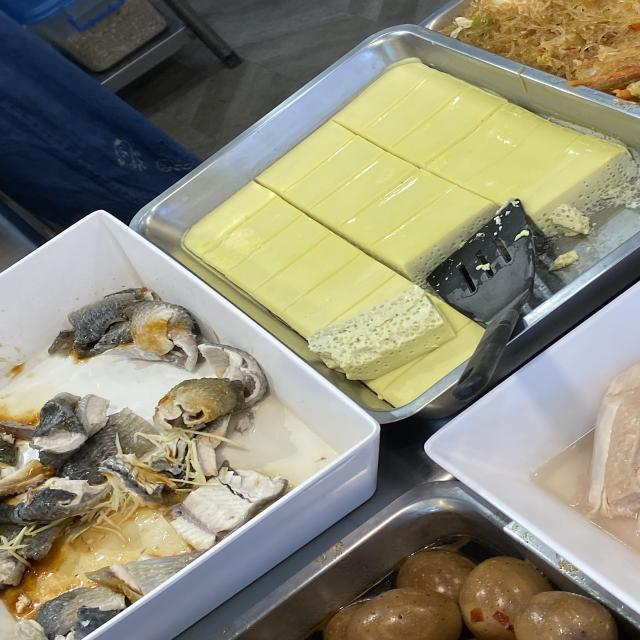steamed egg: (267, 168, 422, 306)
